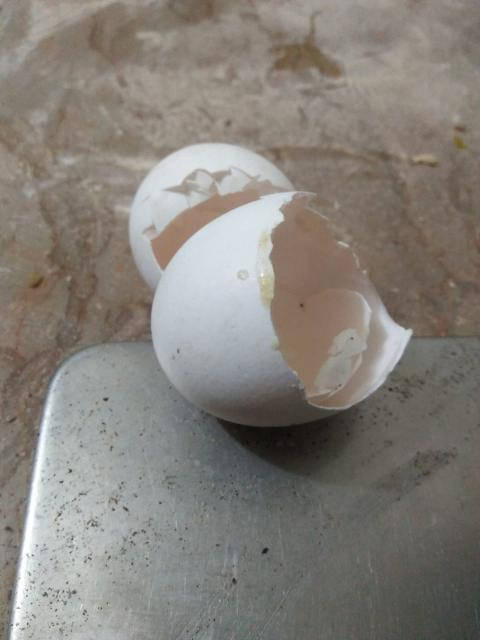Roto: (151, 191, 417, 431), (126, 142, 297, 296)
